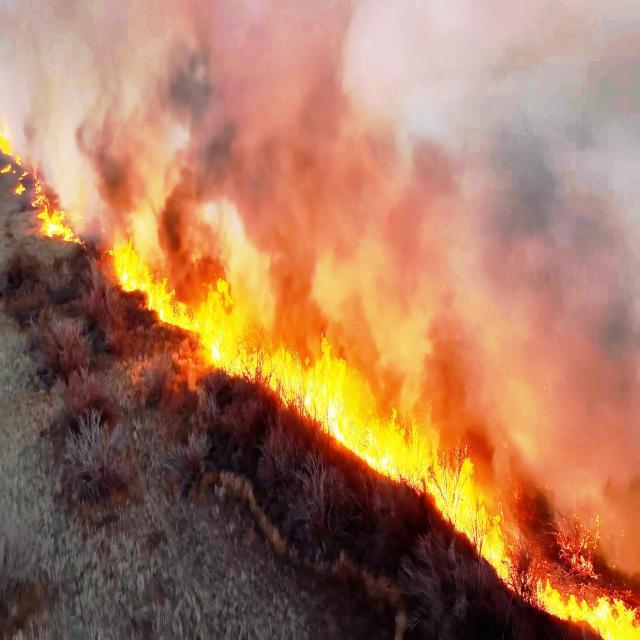Fire: (300, 338, 408, 484), (1, 136, 86, 257), (536, 559, 632, 640), (398, 431, 469, 536), (114, 233, 175, 325), (185, 280, 234, 370), (474, 499, 510, 587)
Smoke: (420, 0, 640, 451), (177, 0, 417, 337), (1, 2, 177, 138), (509, 451, 640, 575), (88, 142, 178, 232)
